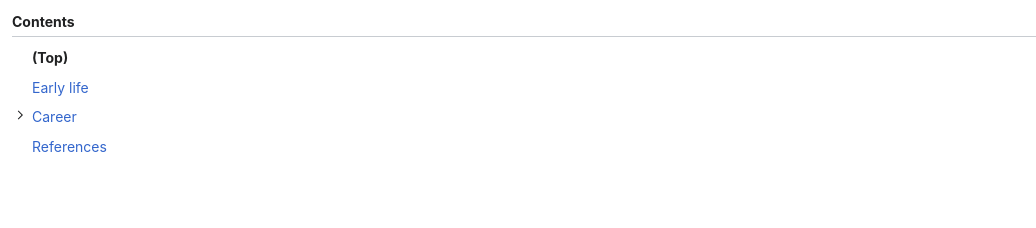
it: TableOfContents › expands and collapses subsections with the toggle
Click the button named "toggle career": (20, 115) [12,107,28,123]
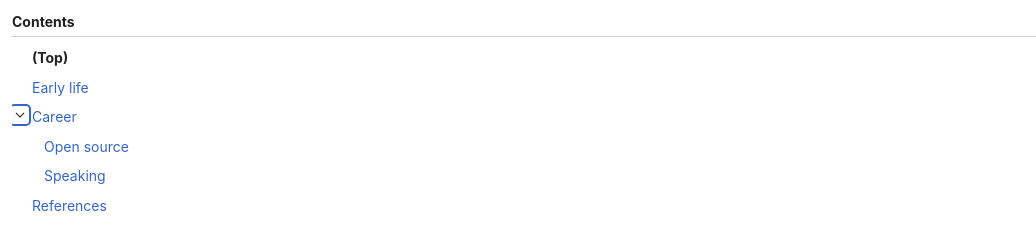
Expected: the button named "toggle career" is expanded
Expected: the link "Open source" is shown, [44,138,129,155]
Click the button named "toggle career": (20, 115) [12,107,28,123]
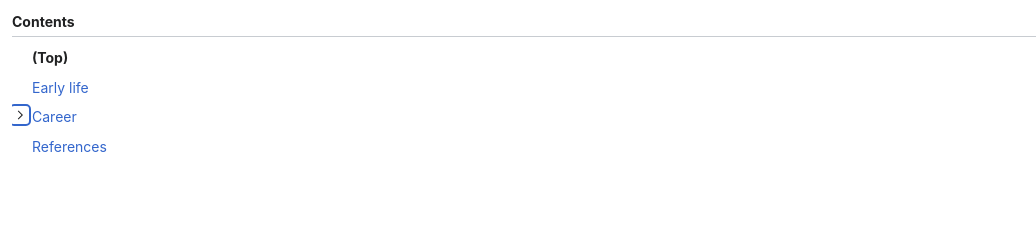
Expected: the button named "toggle career" is collapsed, [12,107,28,123]
